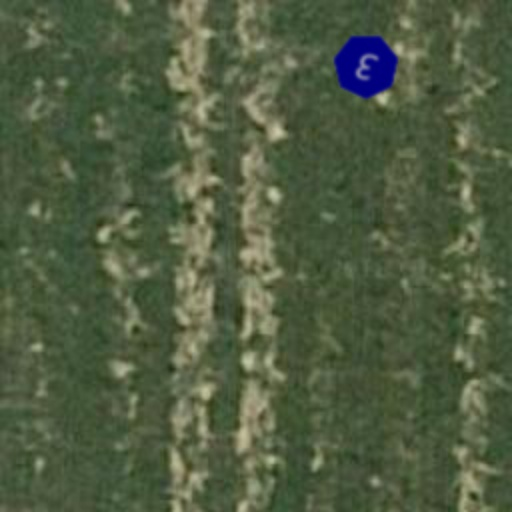heptagon: (326, 26, 406, 106)
